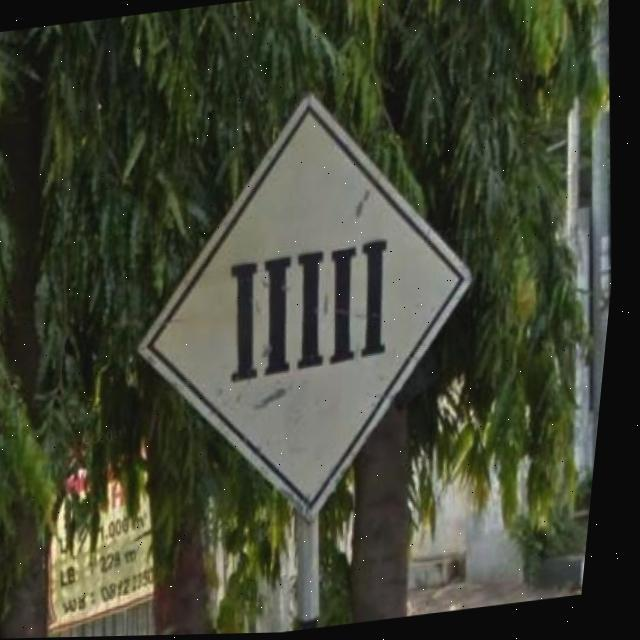Peringatan Perlintasan Kereta Api: (138, 92, 500, 525)
